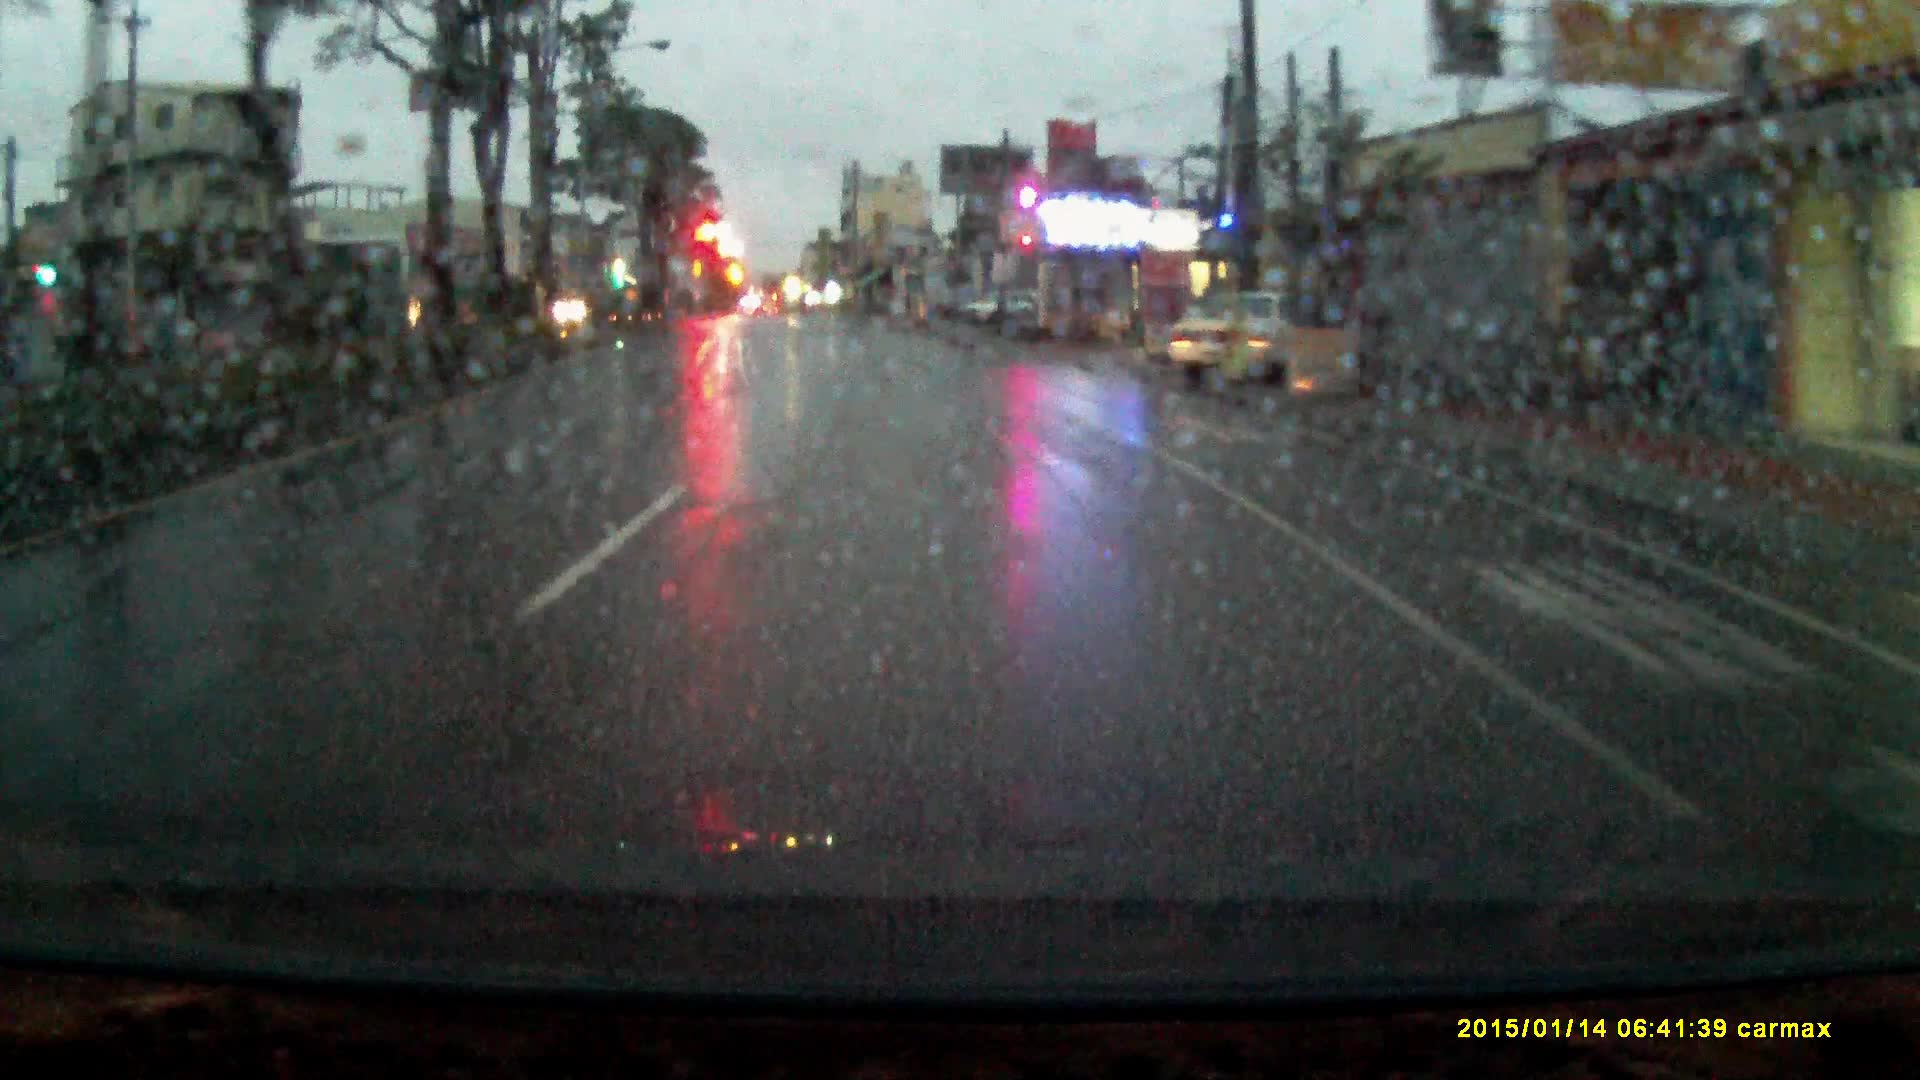vehicle: (1182, 290, 1344, 390), (967, 289, 1047, 326)
